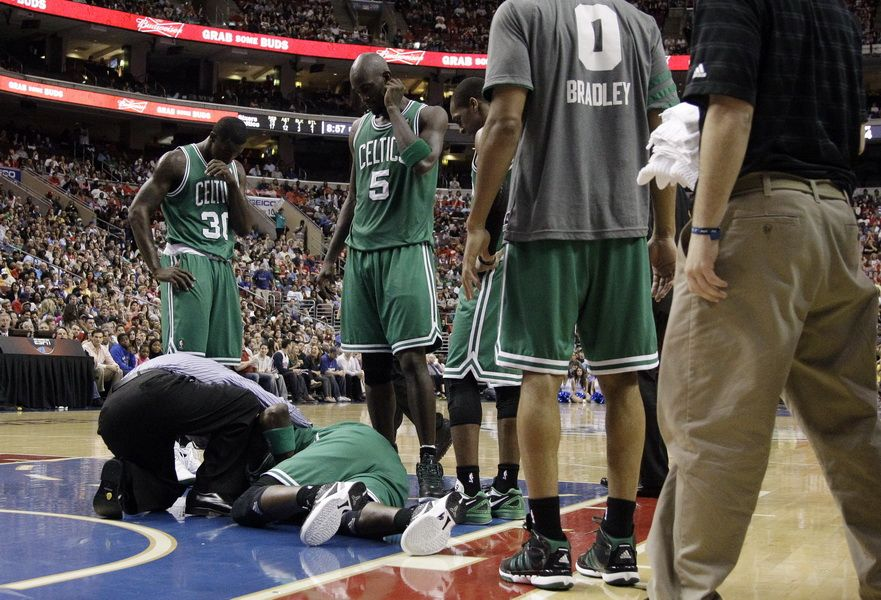10+: (7, 1, 877, 597)
down: (222, 415, 464, 563)
